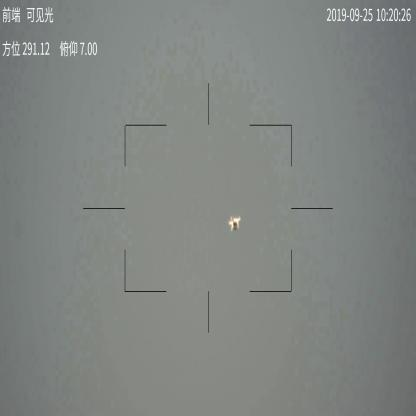uav: (223, 214, 242, 233)
